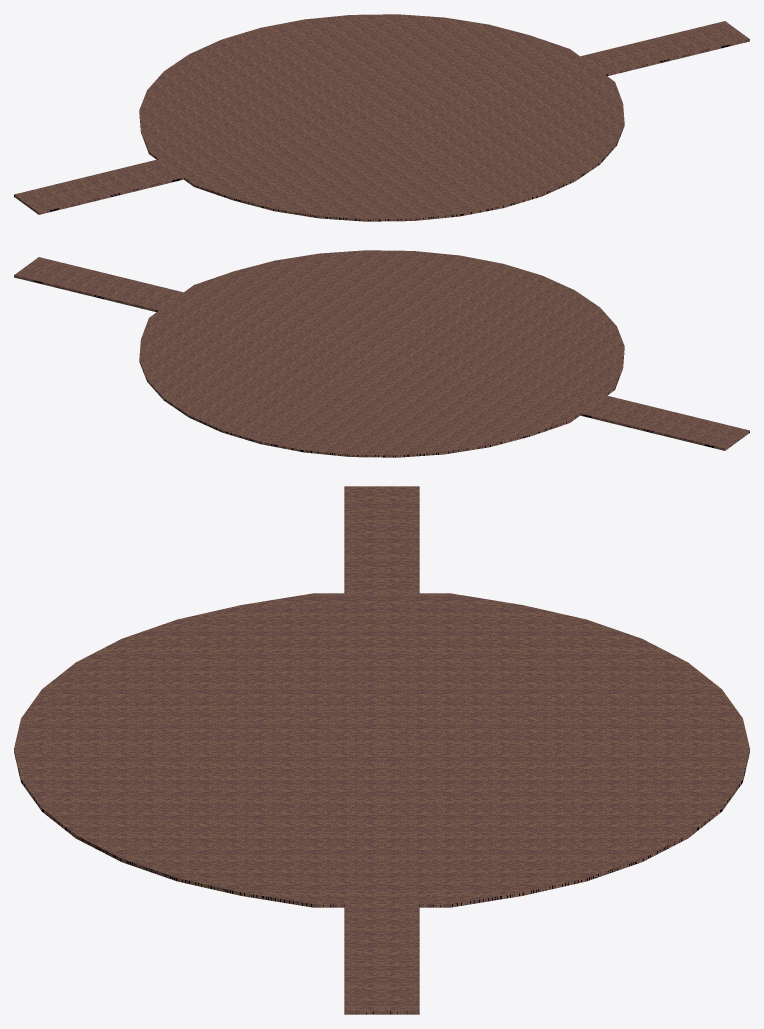
File: SueloCatedral.fbx
3 views of the same model, one above another, from view 1: azimuth 30°, elevation 25°; view 2: azimuth 150°, elevation 25°; view 3: azimuth 270°, elevation 25° (orthographic). The views are drawn at different scales.
Parts seen in each view (by area): view 1: Circle; view 2: Circle; view 3: Circle.
Boxes of the visible parts, <box> form: Circle: <box>14,14,749,221</box>; Circle: <box>14,250,749,457</box>; Circle: <box>14,486,749,1014</box>.
Size of the model in its own units: 20315 by 63 by 12033.
1 material, 1 textured.
